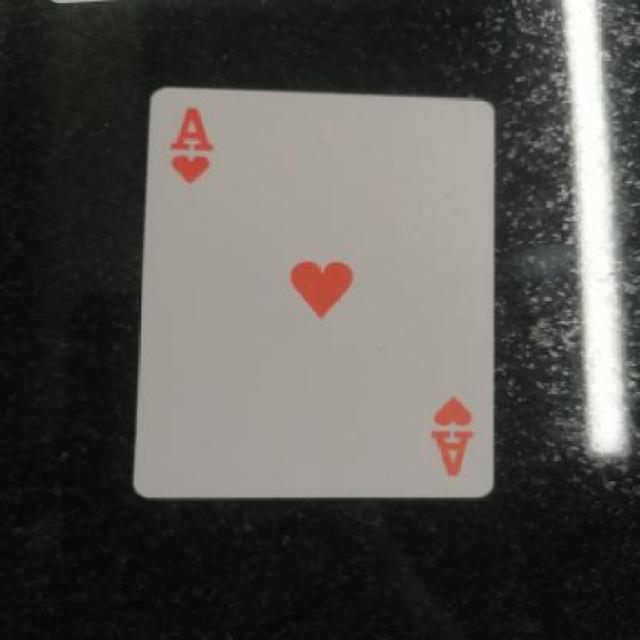AH: (141, 101, 257, 202), (414, 394, 486, 483)
